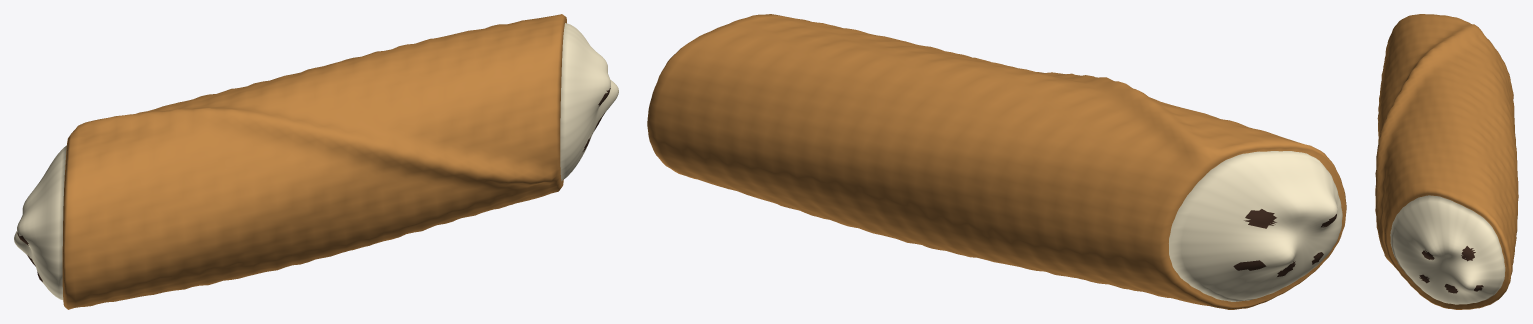
File: NEW364_cannoli_LOD0.glb
3 renders of one model, left to right at view 1: azimuth 30°, elevation 25°; view 2: azimuth 150°, elevation 25°; view 3: azimuth 270°, elevation 25°, orthographic. The views are drawn at different scales.
Visible parts, largest first — view 1: Whole_cannolo; view 2: Whole_cannolo; view 3: Whole_cannolo.
Boxes of the visible parts, bbox=[...] form: Whole_cannolo: bbox=[14, 14, 618, 309]; Whole_cannolo: bbox=[647, 14, 1346, 309]; Whole_cannolo: bbox=[1375, 14, 1518, 309].
Size of the model in its own units: 0.1613 by 0.0431 by 0.043.
